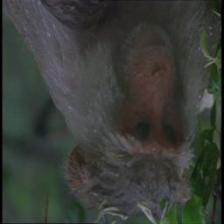monkey: (54, 20, 214, 223)
